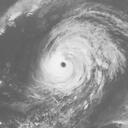cyclone: (34, 18, 107, 102)
